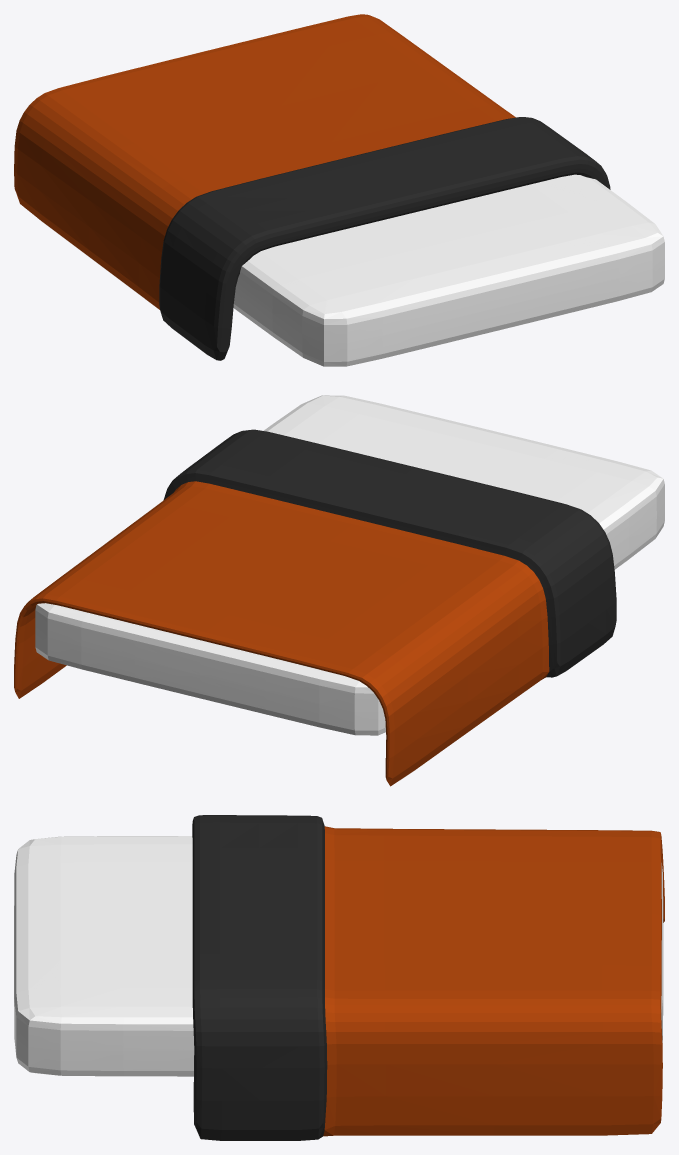
File: bed.obj
3 views of the same model, one above another, from view 1: azimuth 30°, elevation 25°; view 2: azimuth 150°, elevation 25°; view 3: azimuth 270°, elevation 25° (orthographic). The views are drawn at different scales.
Parts seen in each view (by area): view 1: Bed_Cube.011; view 2: Bed_Cube.011; view 3: Bed_Cube.011.
Boxes of the visible parts, x1=… form: Bed_Cube.011: x1=14, y1=14, x2=664, y2=366; Bed_Cube.011: x1=14, y1=395, x2=664, y2=786; Bed_Cube.011: x1=14, y1=815, x2=664, y2=1140.
Bounding box in the file's own units: 2.38 × 0.731 × 3.09.
